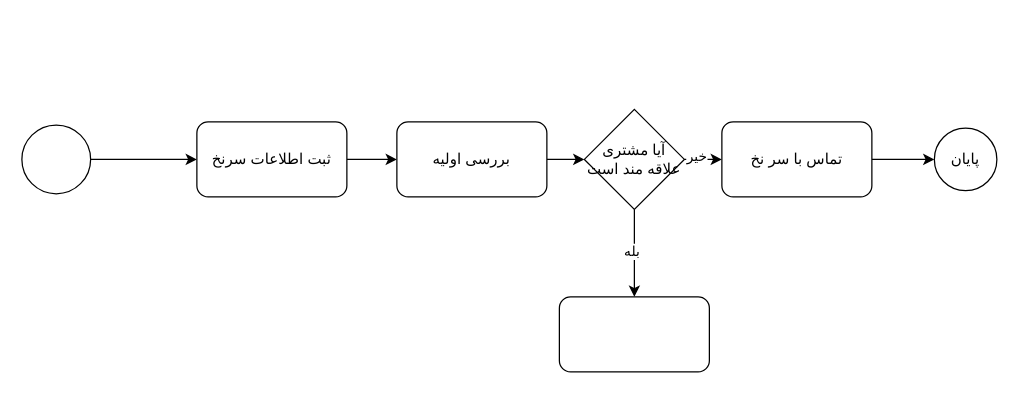
Some shapes in this 1019 by 394 pixel diagram are drawn without their labels. Each missing label, with the box of its shape:
تبدیلی به فروش: (558, 296, 709, 372)
شروع: (21, 124, 91, 194)
